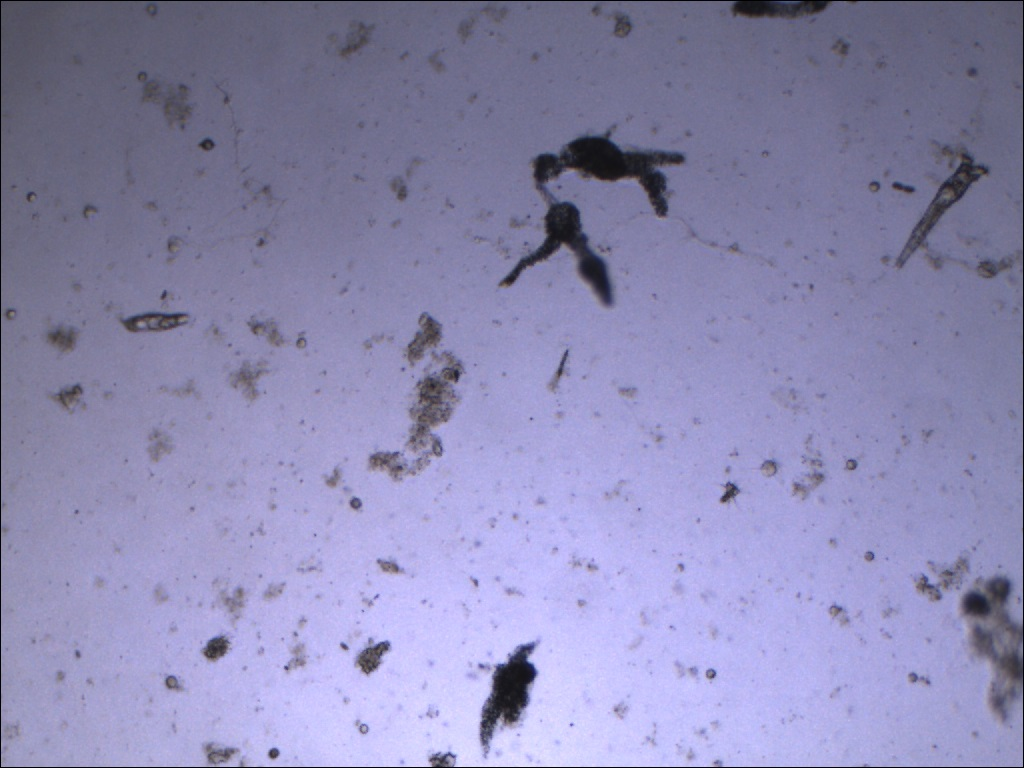amoeba: (493, 185, 617, 315), (523, 127, 691, 220), (468, 629, 547, 766)
